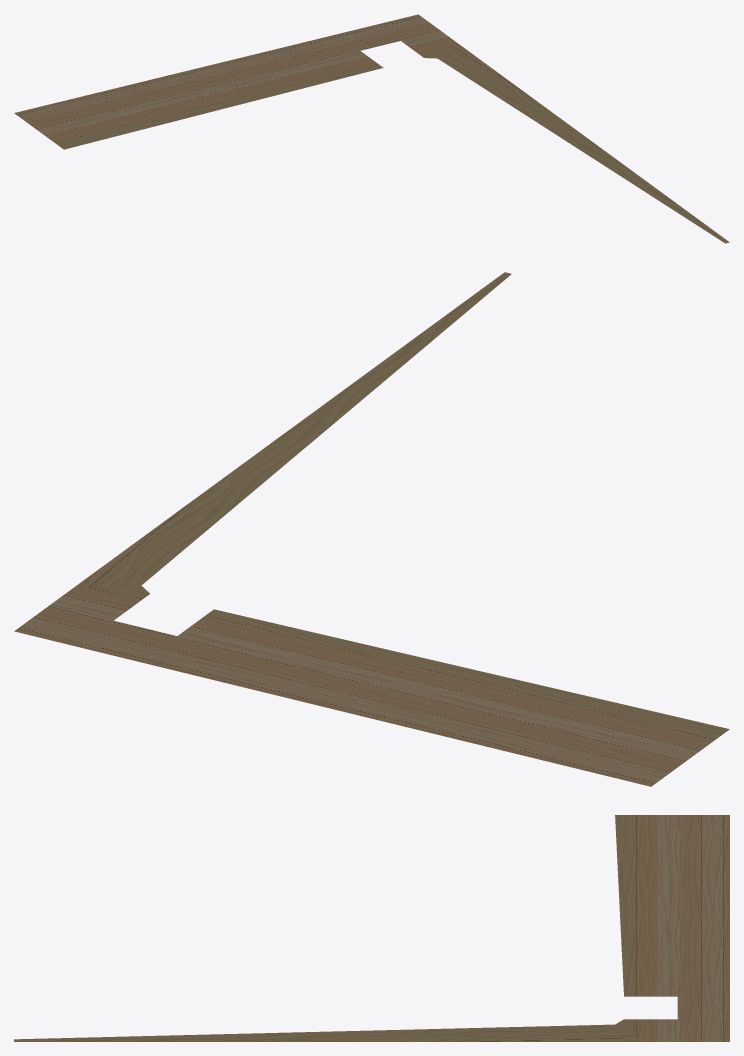
Rendered from kd_stage_135b75_4_22_bounded_piece_1.glb.
The picture shows the model from 3 angles, top to bottom: view 1: azimuth 30°, elevation 25°; view 2: azimuth 150°, elevation 25°; view 3: azimuth 270°, elevation 25°; orthographic projection. The views are drawn at different scales.
Parts seen in each view (by area): view 1: kd_stage_135b75_4_22_bounded_piece_1; view 2: kd_stage_135b75_4_22_bounded_piece_1; view 3: kd_stage_135b75_4_22_bounded_piece_1.
Boxes of the visible parts, bbox=[...] form: kd_stage_135b75_4_22_bounded_piece_1: bbox=[14, 14, 729, 243]; kd_stage_135b75_4_22_bounded_piece_1: bbox=[14, 272, 729, 786]; kd_stage_135b75_4_22_bounded_piece_1: bbox=[14, 815, 729, 1041].
Size of the model in its own units: 3.51 by 4.77e-07 by 4.68.
Materials: 1 (1 with a texture image).
